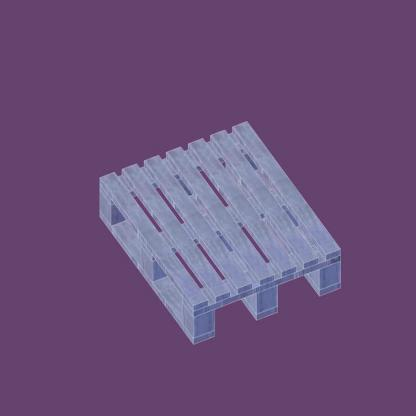BoxFace: (96, 115, 345, 349)
